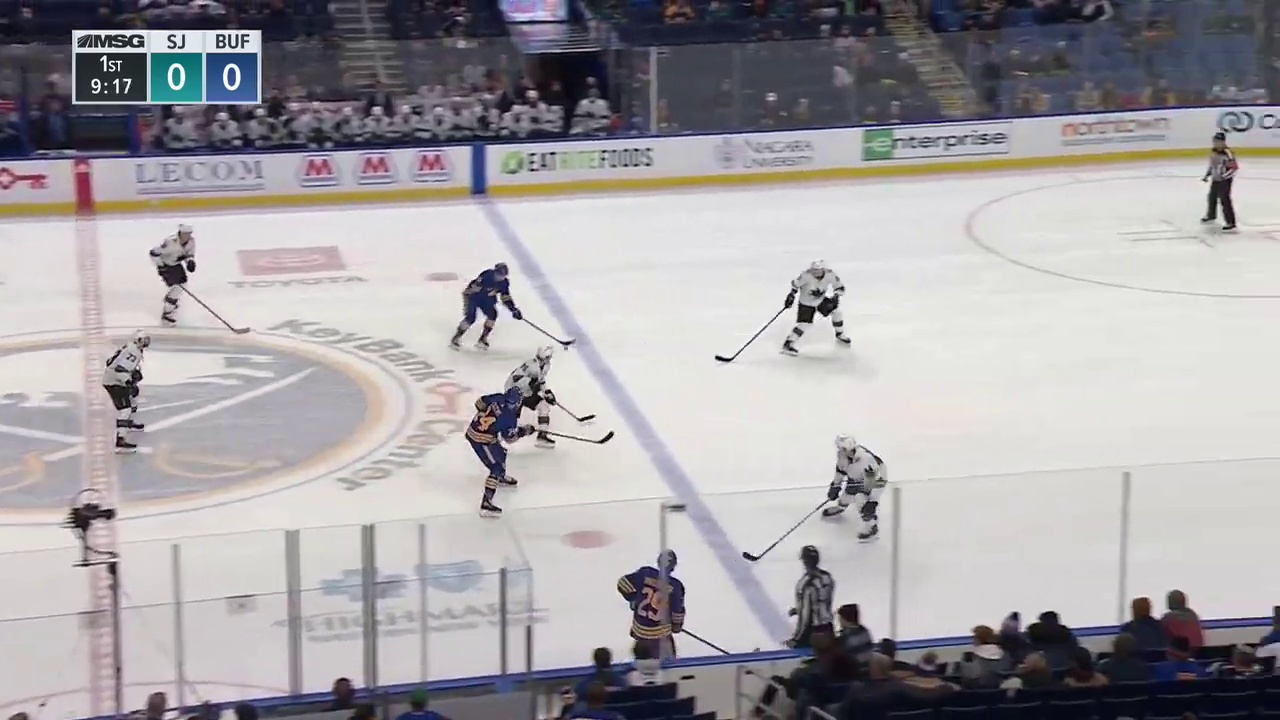hockeyplayer: (464, 386, 535, 518), (617, 550, 686, 660), (822, 432, 887, 544), (782, 260, 851, 357), (451, 262, 523, 351), (103, 330, 150, 454), (503, 344, 556, 450), (150, 223, 197, 327)
referee: (784, 545, 835, 649), (1201, 132, 1239, 233)
